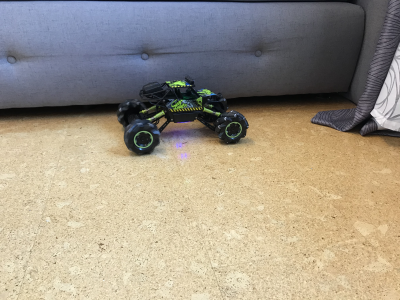remote control car: (114, 72, 252, 157)
